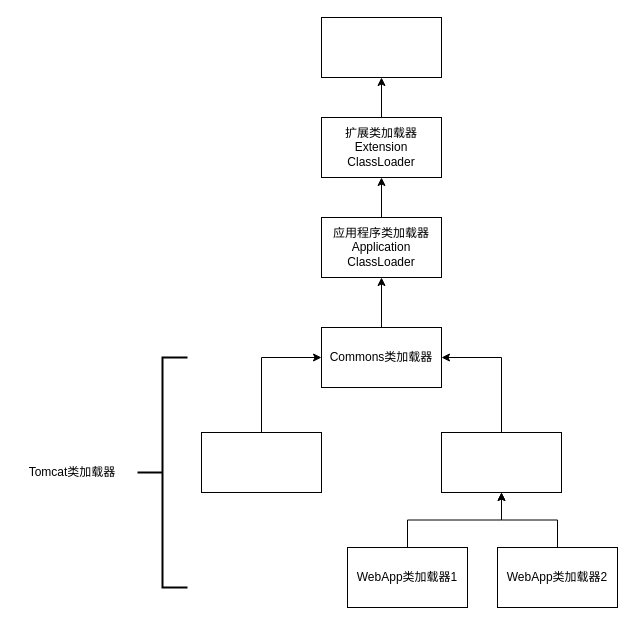
Image size: 635x625. Some labels were removed from this diagram. Here are the shapes that lost their labels. From the top down, the centre of each, then its label:
(381,47): 启动类加载器 BootStrap ClassLoader
(261,462): Catalina类加载器
(501,462): Shared类加载器
